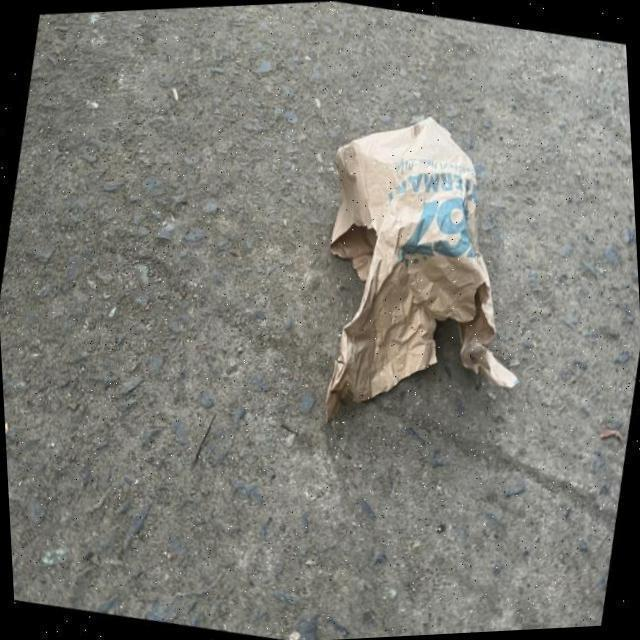Paper_Bag: (288, 89, 574, 462)
